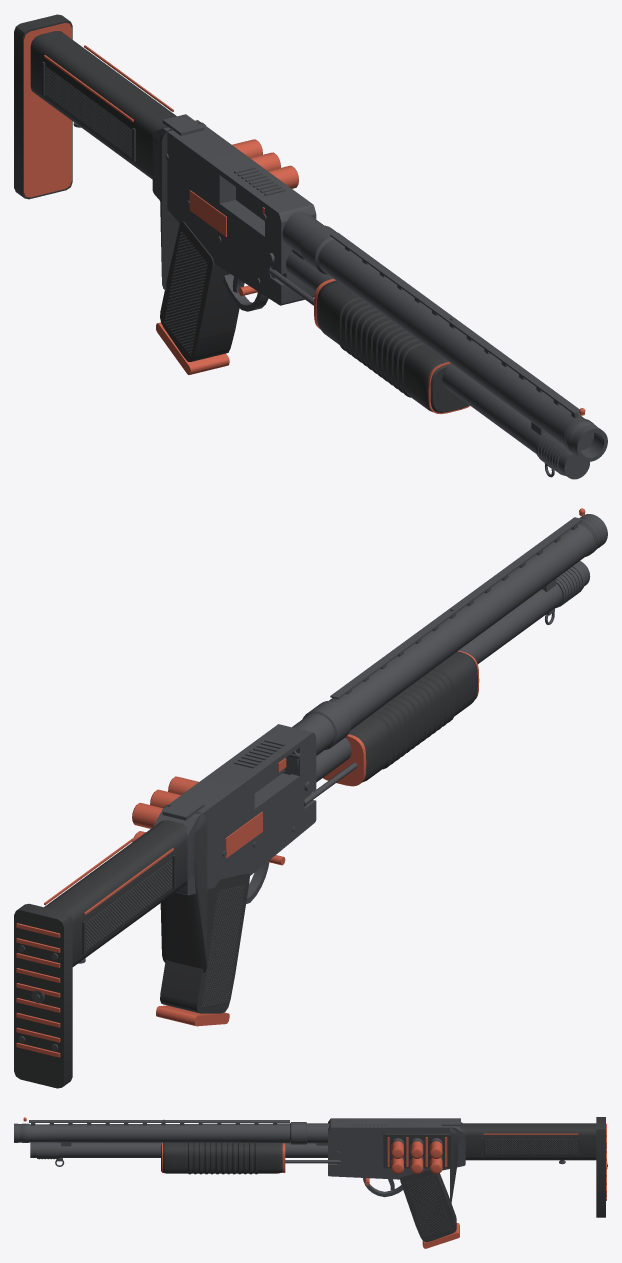
The model's file is Shotgun.glb.
3 renders of one model, top to bottom at view 1: azimuth 30°, elevation 25°; view 2: azimuth 150°, elevation 25°; view 3: azimuth 270°, elevation 25°, orthographic. The views are drawn at different scales.
Parts seen in each view (by area): view 1: ShotgunBody, Pump; view 2: ShotgunBody, Pump; view 3: ShotgunBody, Pump.
Boxes of the visible parts, <box> form: ShotgunBody: <box>14,14,607,479</box>; Pump: <box>268,267,469,413</box>; ShotgunBody: <box>14,508,607,1088</box>; Pump: <box>304,650,479,807</box>; ShotgunBody: <box>14,1117,607,1248</box>; Pump: <box>161,1142,340,1174</box>.
Bounding box in the file's own units: 0.0831 × 0.2133 × 0.91.
